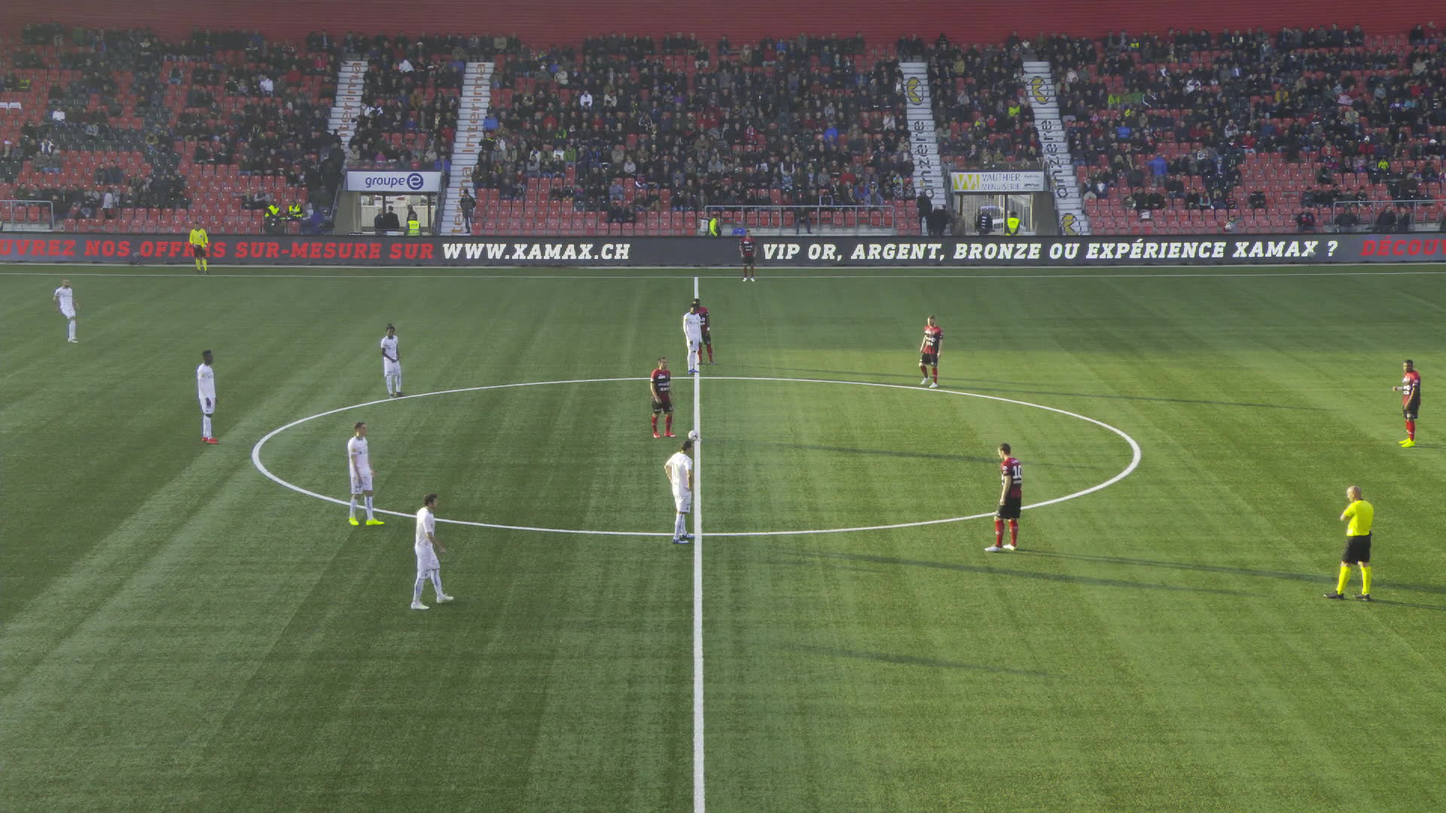ball: (688, 430, 699, 440)
player: (410, 491, 453, 609), (982, 441, 1023, 552), (346, 419, 384, 526), (664, 439, 695, 544), (1392, 359, 1421, 448), (648, 355, 677, 438), (196, 349, 219, 444), (380, 321, 407, 398), (52, 277, 80, 343), (688, 298, 715, 365), (918, 313, 942, 388), (682, 303, 702, 374), (738, 228, 757, 282)
referee: (1322, 483, 1374, 602), (188, 221, 210, 275)
